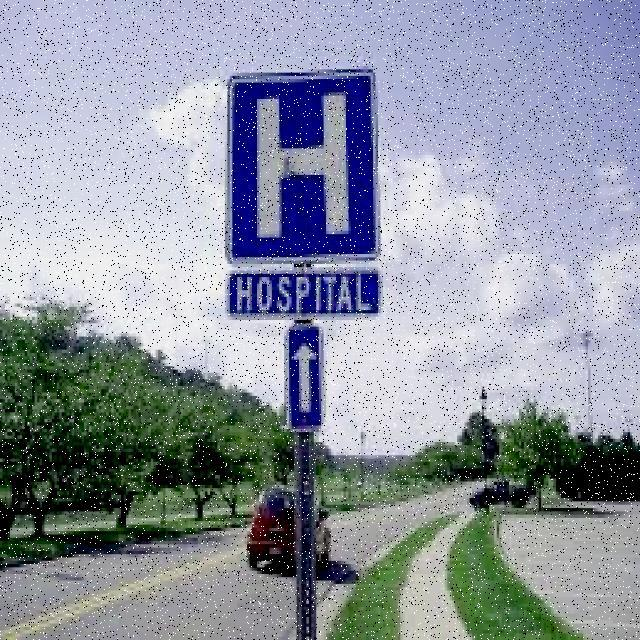Traffic sign: (222, 61, 392, 435)
